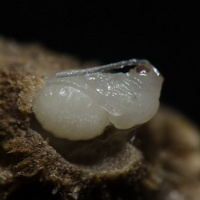insect: (33, 59, 162, 139)
